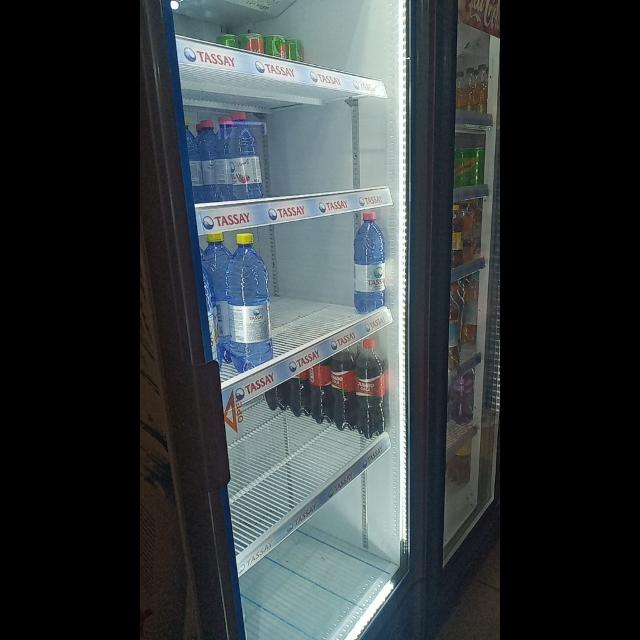Cooling-Display: (140, 1, 416, 640)
